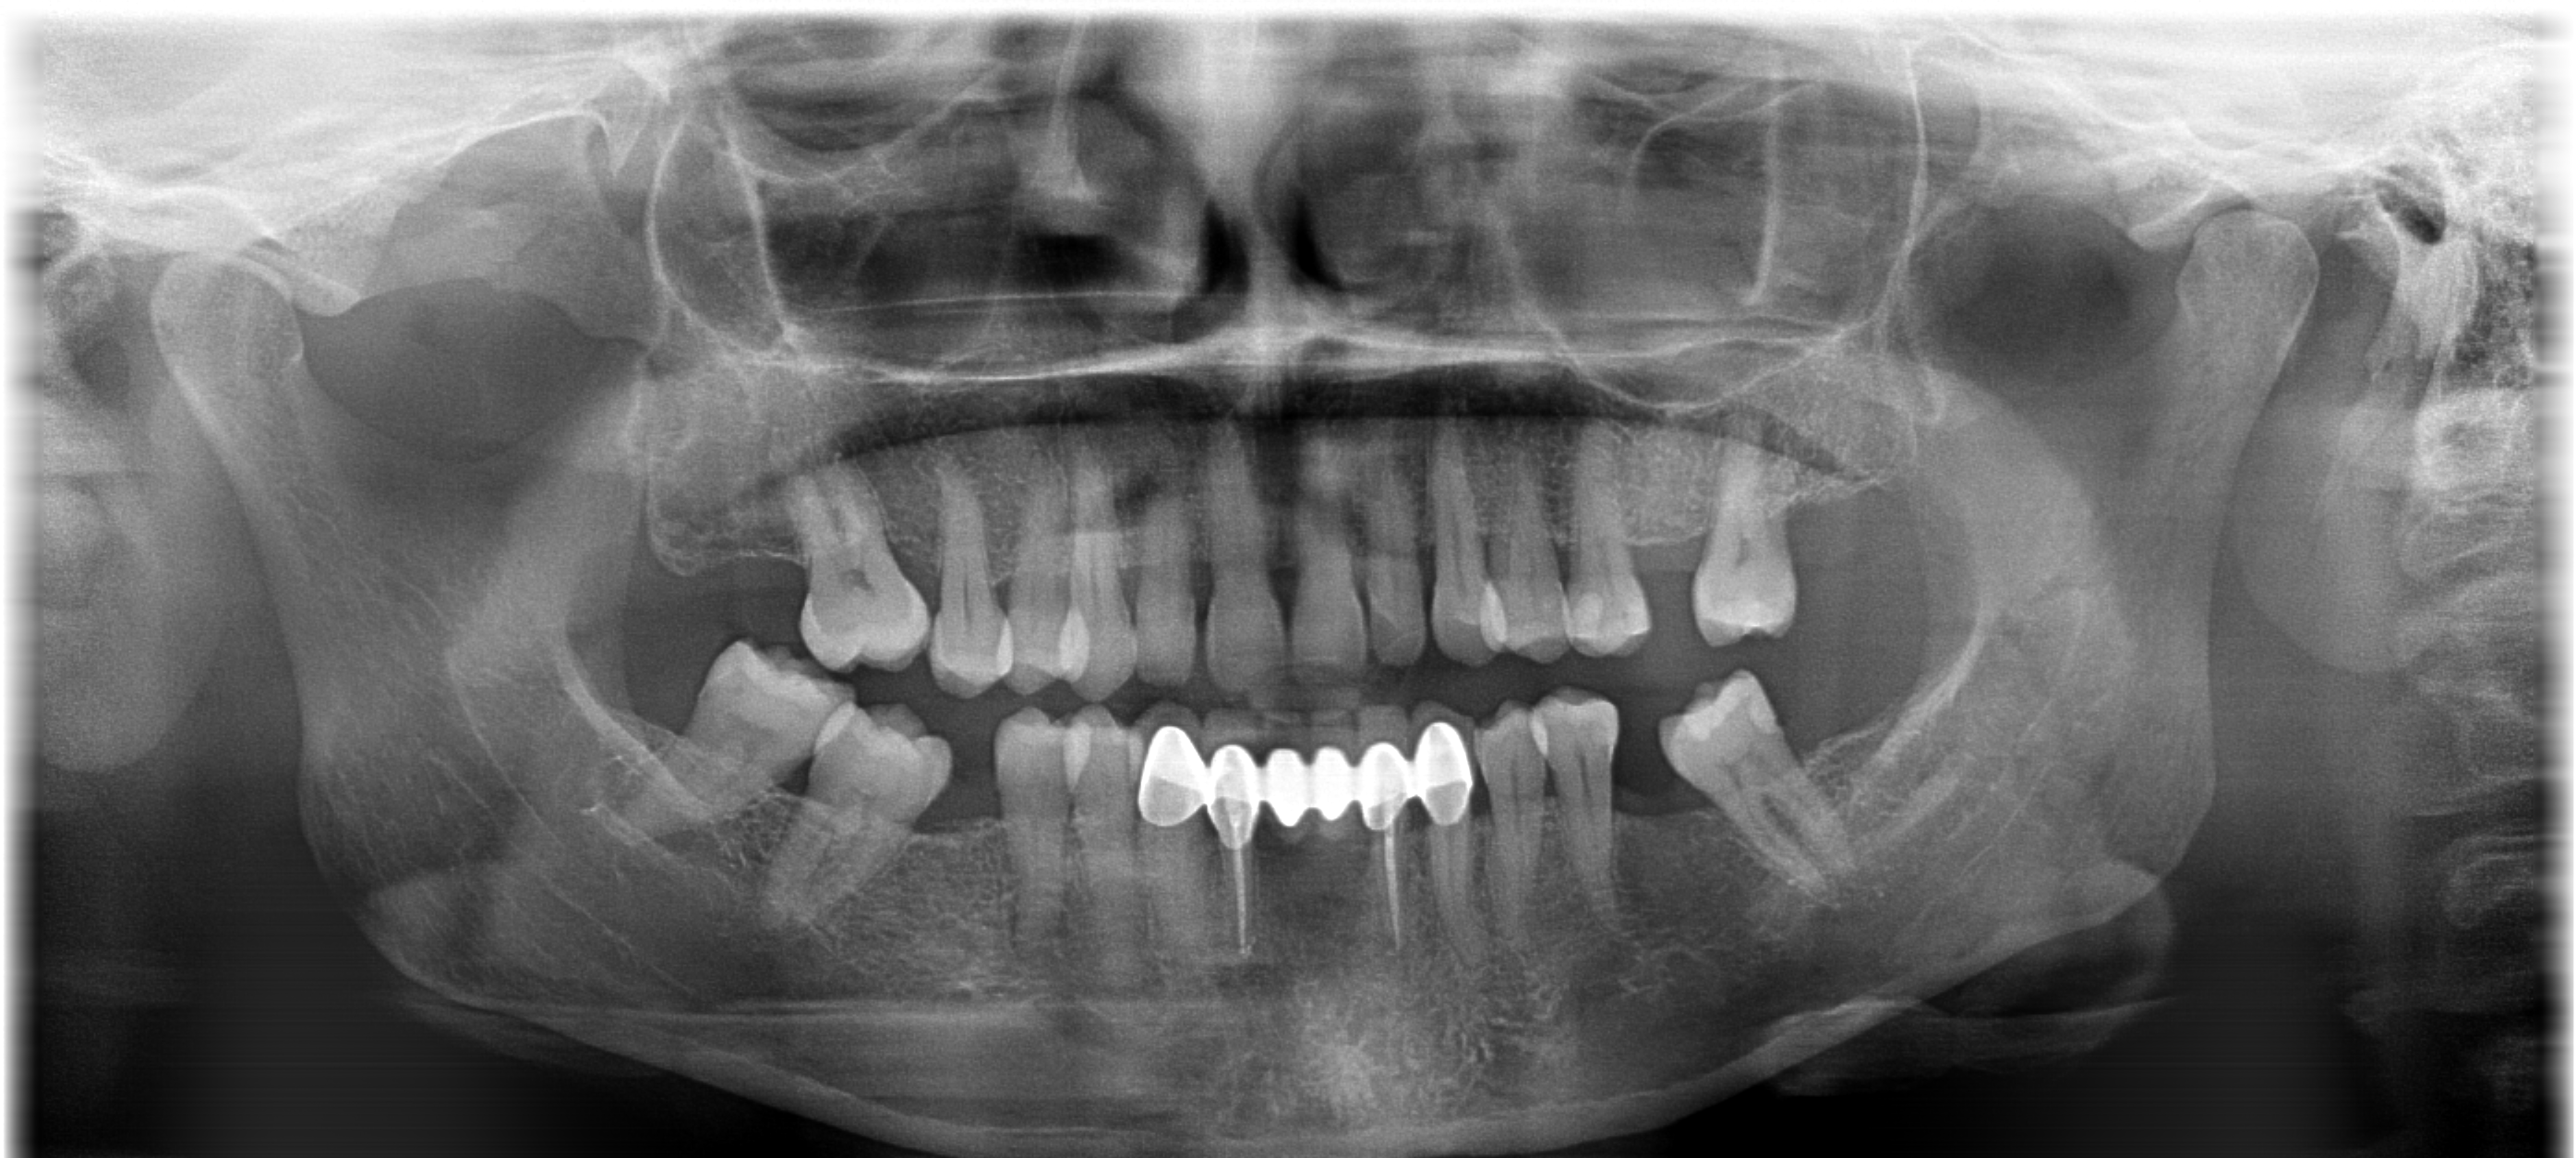diastema: (1401, 443, 1465, 669), (1163, 476, 1227, 700)
zona_dentula: (683, 450, 831, 670), (1605, 429, 1753, 647), (889, 715, 1035, 933), (1584, 667, 1730, 885)
